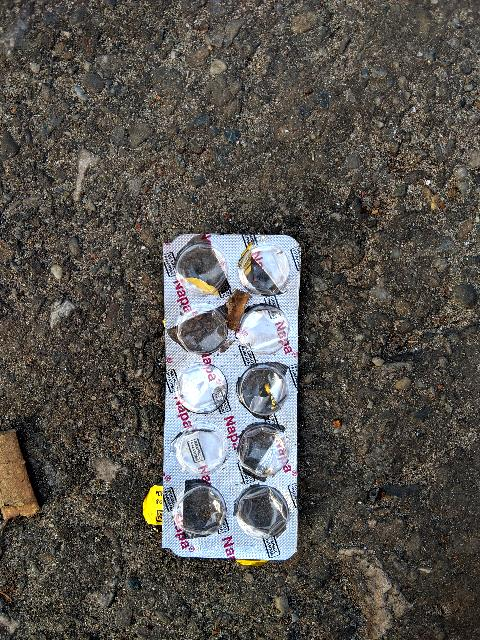medicine: (139, 218, 332, 573)
